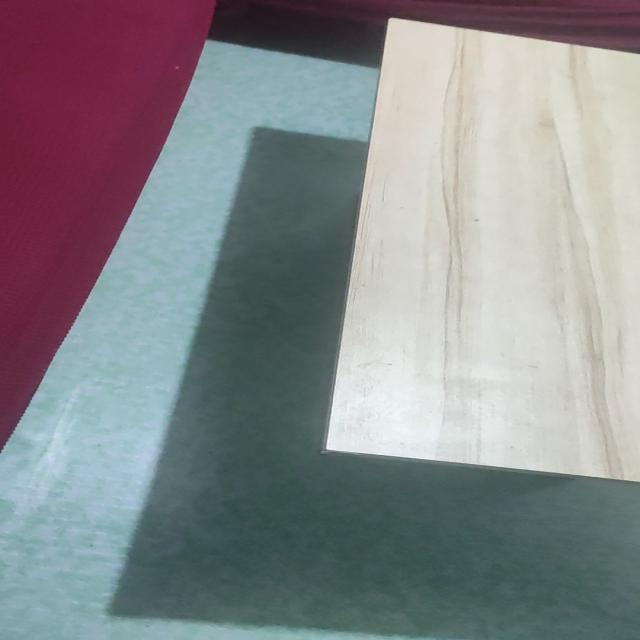table: (328, 11, 640, 495)
